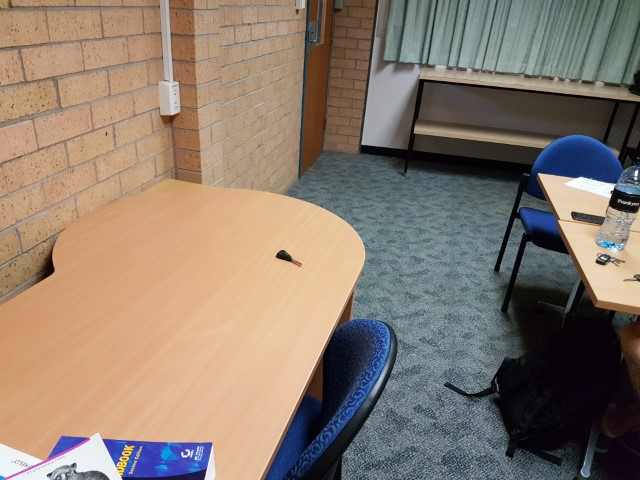key: (276, 249, 302, 266)
